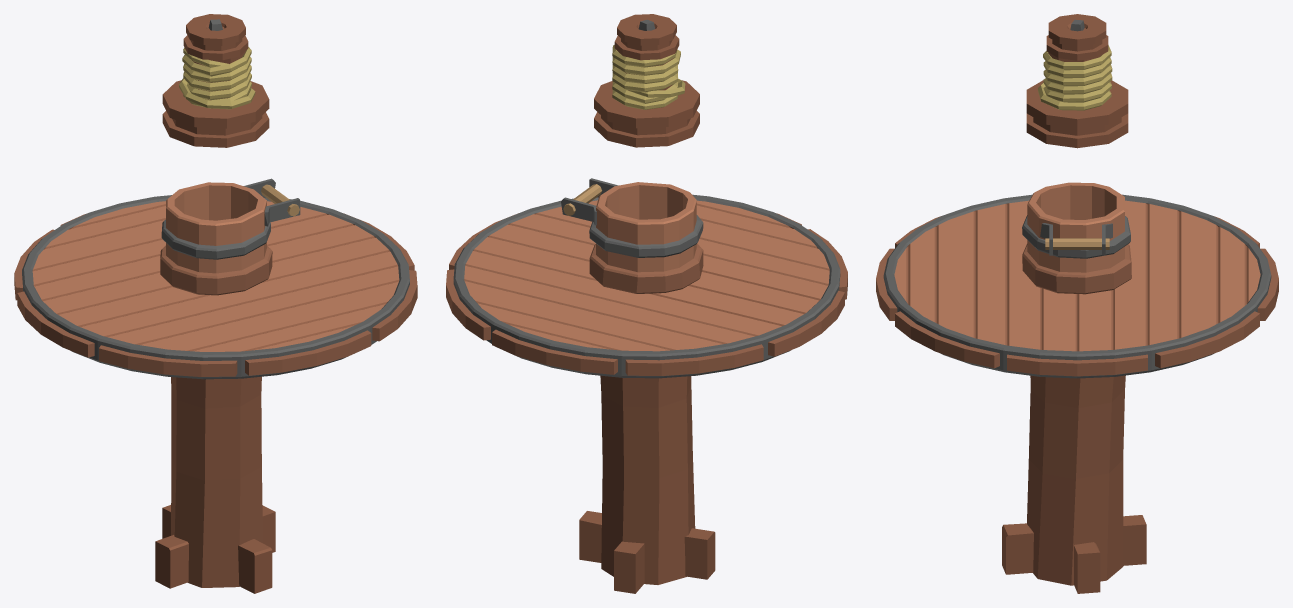
Rendered from ice_screw_platform.FBX.
3 renders of one model, left to right at view 1: azimuth 30°, elevation 25°; view 2: azimuth 150°, elevation 25°; view 3: azimuth 270°, elevation 25°, orthographic.
Parts seen in each view (by area): view 1: ice_screw_platform, ice_screw_base, ice_screw_pivot, ice_screw_cap, ice_screw_handle; view 2: ice_screw_platform, ice_screw_base, ice_screw_pivot, ice_screw_cap, ice_screw_handle; view 3: ice_screw_platform, ice_screw_base, ice_screw_cap, ice_screw_pivot, ice_screw_handle.
Boxes of the visible parts, x1,y1,x2,y2 form: ice_screw_platform: [14, 195, 417, 379]; ice_screw_base: [155, 376, 275, 593]; ice_screw_pivot: [160, 182, 272, 295]; ice_screw_cap: [162, 14, 269, 147]; ice_screw_handle: [243, 178, 300, 226]; ice_screw_platform: [446, 194, 847, 378]; ice_screw_base: [579, 375, 715, 593]; ice_screw_pivot: [589, 182, 703, 293]; ice_screw_cap: [594, 14, 699, 147]; ice_screw_handle: [561, 178, 618, 225]; ice_screw_platform: [876, 194, 1278, 378]; ice_screw_base: [1002, 375, 1146, 593]; ice_screw_cap: [1026, 14, 1128, 148]; ice_screw_pivot: [1022, 182, 1131, 294]; ice_screw_handle: [1040, 223, 1112, 255].
Size of the model in its own units: 5.2 by 7.75 by 5.2.
Materials: 1 (1 with a texture image).
